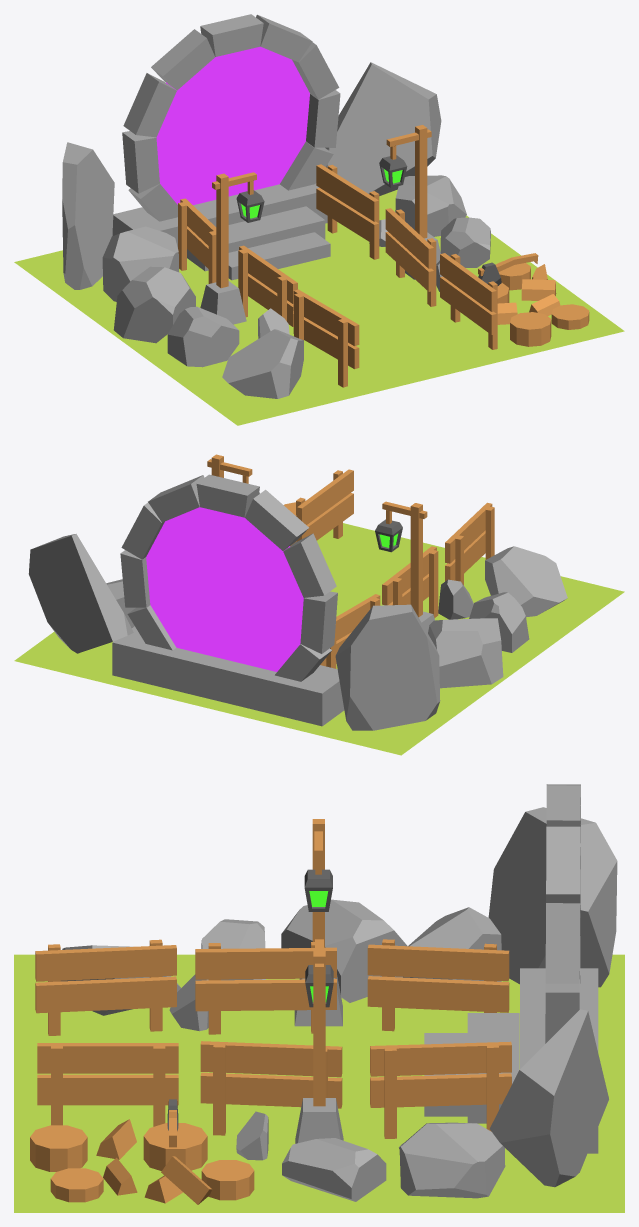
The model's file is portal.glb.
3 renders of one model, top to bottom at view 1: azimuth 30°, elevation 25°; view 2: azimuth 150°, elevation 25°; view 3: azimuth 270°, elevation 25°, orthographic. The views are drawn at different scales.
Parts seen in each view (by area): view 1: Plane, portalLight, Cube.024, Cube.025, Cube.027, Cube.028, Cube.026, Cube.048, Cube.051, Cube.033, Cube.044, Cube.001 (+26 smaller); view 2: portalLight, Plane, Cube.025, Cube.044, Cube.024, Cube.027, Cube.028, Cube.001, Cube.051, Cube.037, Cube.038, Cube.033 (+13 smaller); view 3: Plane, Cube.024, Cube.025, Cube.051, Cube.048, Cube.049, Cube.001, Cube.047, Cube.050, Cube.031, Cube.027, Cube.030 (+24 smaller).
Part boxes in pixels (bbox=[...]): Plane: bbox=[14, 189, 624, 425]; portalLight: bbox=[156, 46, 309, 205]; Cube.024: bbox=[325, 62, 441, 195]; Cube.025: bbox=[62, 142, 114, 289]; Cube.027: bbox=[113, 266, 195, 343]; Cube.028: bbox=[222, 329, 303, 398]; Cube.026: bbox=[102, 226, 178, 301]; Cube.048: bbox=[316, 164, 379, 259]; Cube.051: bbox=[293, 289, 359, 387]; Cube.033: bbox=[167, 306, 239, 367]; Cube.044: bbox=[112, 183, 327, 247]; Cube.001: bbox=[440, 253, 497, 349]; portalLight: bbox=[146, 507, 303, 671]; Plane: bbox=[14, 523, 624, 755]; Cube.025: bbox=[335, 604, 440, 730]; Cube.044: bbox=[112, 626, 344, 726]; Cube.024: bbox=[28, 533, 133, 653]; Cube.027: bbox=[428, 618, 503, 688]; Cube.028: bbox=[485, 546, 567, 617]; Cube.001: bbox=[296, 469, 353, 541]; Cube.051: bbox=[445, 502, 494, 585]; Cube.037: bbox=[283, 533, 336, 597]; Cube.038: bbox=[245, 489, 308, 550]; Cube.033: bbox=[469, 592, 529, 652]; Plane: bbox=[14, 954, 624, 1212]; Cube.024: bbox=[489, 1009, 608, 1187]; Cube.025: bbox=[488, 807, 617, 987]; Cube.051: bbox=[35, 939, 176, 1035]; Cube.048: bbox=[370, 1041, 511, 1138]; Cube.049: bbox=[367, 939, 509, 1031]; Cube.001: bbox=[37, 1043, 178, 1126]; Cube.047: bbox=[200, 1041, 342, 1135]; Cube.050: bbox=[195, 942, 336, 1034]; Cube.031: bbox=[399, 1122, 505, 1198]; Cube.027: bbox=[281, 899, 407, 1002]; Cube.030: bbox=[282, 1138, 386, 1201].
Size of the model in its own units: 4.13 by 2.04 by 4.
